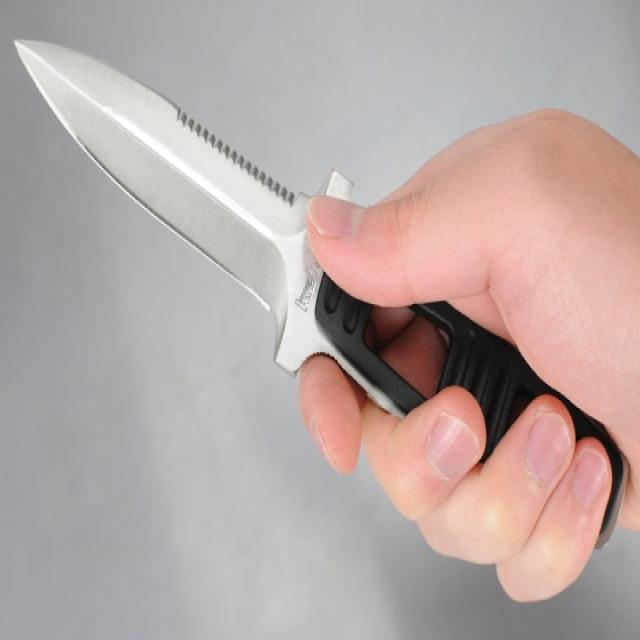knife: (10, 31, 625, 557)
